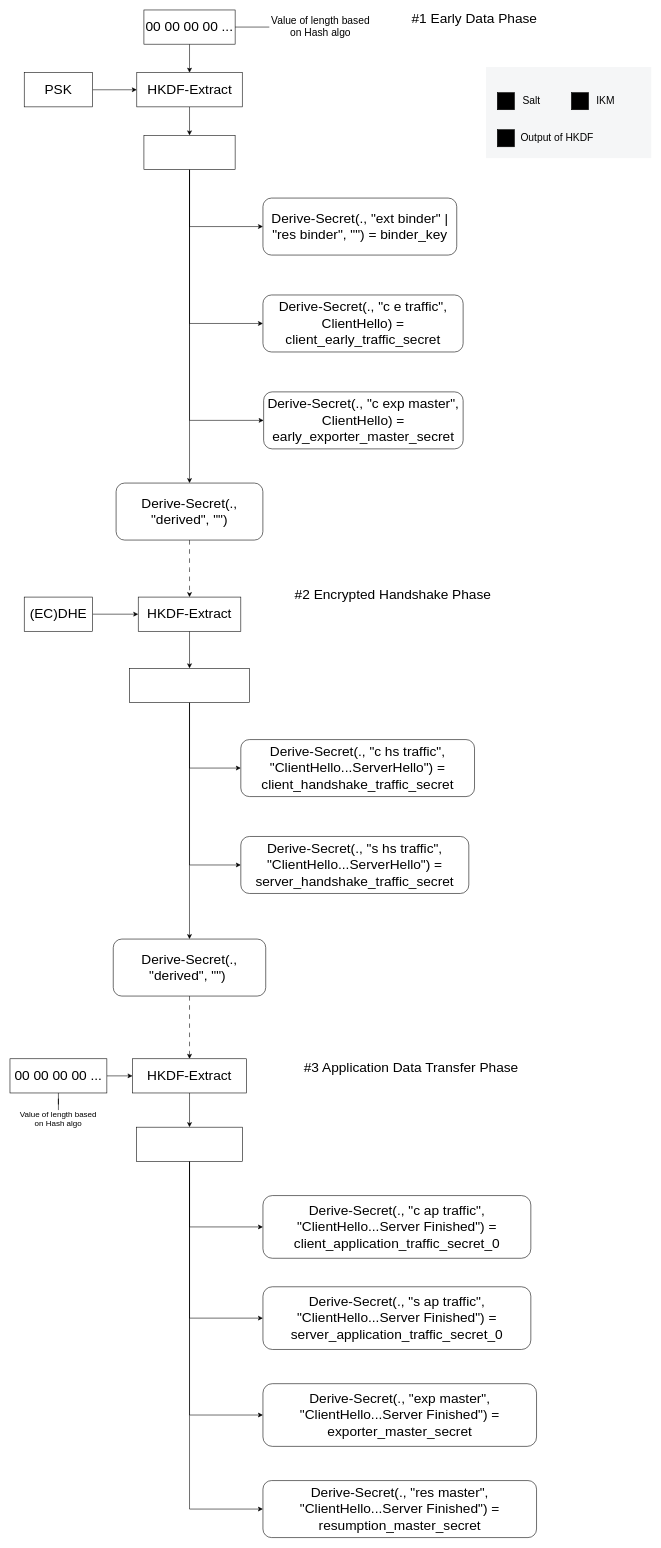
The diagram is 661 pixels wide and 1548 high, and some of its shapes have lost their labels. Here are the shapes that lost their labels. From the top down, the box of each, then its label:
(486, 67, 651, 158): Legend
(143, 135, 235, 170): Early Secret
(129, 668, 249, 703): Handshake Secret
(136, 1127, 243, 1161): Master Secret
